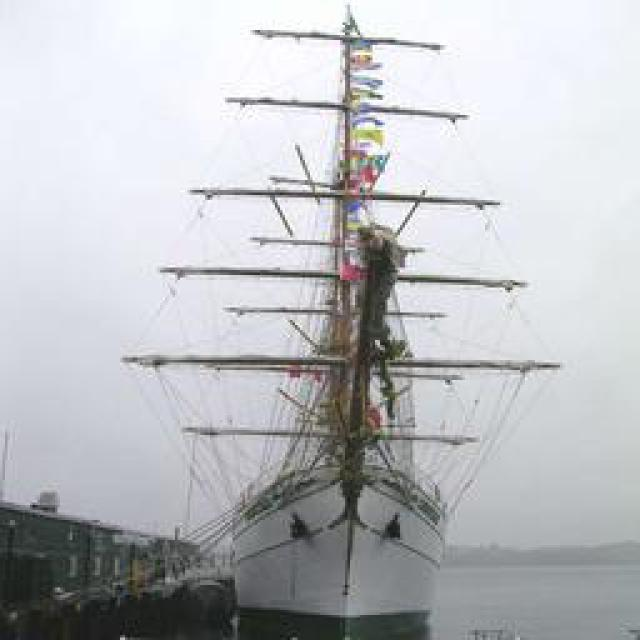Ship: (154, 16, 529, 624)
